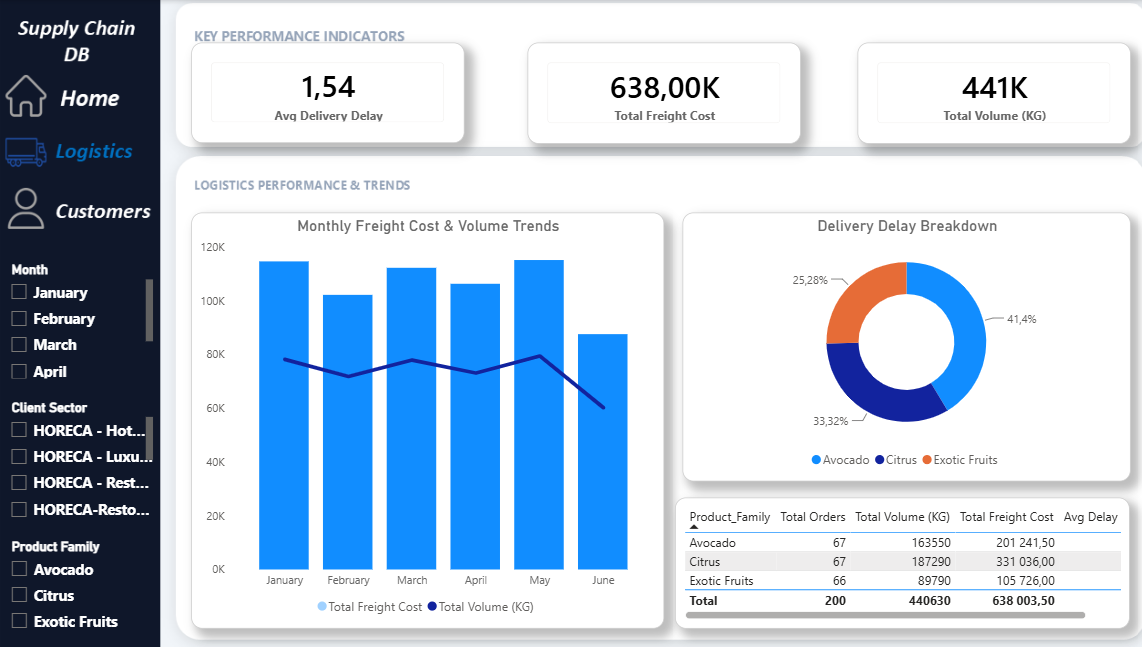

Layout of this report page (visuals, bound fields, positions):
{"tool":"powerbi","page":{"name":"Logistics","canvas":[1280,720],"ordinal":1},"visuals":[{"type":"actionButton","box":[0,204.3,173.1,57.4],"z":0},{"type":"actionButton","box":[0,83.6,173.1,52.5],"z":1000},{"type":"slicer","fields":{"Values":["Dim_Calendar.Nom Mois"]},"box":[0,283,173.1,138.1],"z":2000},{"type":"slicer","fields":{"Values":["Dim_Clients_Costs.Client_Name"]},"box":[0,433.8,173.1,140.1],"z":3000},{"type":"slicer","fields":{"Values":["Fact_Sales_Transactions.Product_Family"]},"box":[0,585.5,173.1,115.7],"z":4000},{"type":"cardVisual","fields":{"Data":["_Measures.Avg Delivery Delay"]},"box":[210.4,47,300.3,110.3],"z":5000},{"type":"cardVisual","fields":{"Data":["_Measures.Total Freight Cost"]},"box":[579.2,47,300.3,111.3],"z":6000},{"type":"cardVisual","fields":{"Data":["Sum(Fact_Sales_Transactions.Volume_KG)"]},"box":[940.8,47,300.3,111.3],"z":7000},{"type":"lineClusteredColumnComboChart","title":"Monthly Freight Cost & Volume Trends","fields":{"Y":["_Measures.Total Freight Cost"],"Y2":["Sum(Fact_Sales_Transactions.Volume_KG)"],"Category":["Dim_Calendar.Nom Mois"]},"box":[210.4,232.9,518.9,456.6],"z":8000},{"type":"donutChart","title":"Delivery Delay Breakdown","fields":{"Category":["Fact_Sales_Transactions.Product_Family"],"Y":["_Measures.Avg Delivery Delay"]},"box":[748.8,232.9,492.4,295.2],"z":9000},{"type":"tableEx","fields":{"Values":["Fact_Sales_Transactions.Product_Family","_Measures.Total Orders","Sum(Fact_Sales_Transactions.Volume_KG)","_Measures.Total Freight Cost","_Measures.Avg Delivery Delay"]},"box":[741.6,545.5,499.5,144],"z":10000}]}

Visuals, with their boxes on the page's 1280x720 design canvas (x1, y1, x2, y2). These are canvas units, not pixel positions in the 1142x647 screenshot, which may show the page scaled, cropped or inside an application window:
actionButton: <region>0, 204, 173, 262</region>
actionButton: <region>0, 84, 173, 136</region>
slicer - Dim_Calendar.Nom Mois: <region>0, 283, 173, 421</region>
slicer - Dim_Clients_Costs.Client_Name: <region>0, 434, 173, 574</region>
slicer - Fact_Sales_Transactions.Product_Family: <region>0, 586, 173, 701</region>
cardVisual - _Measures.Avg Delivery Delay: <region>210, 47, 511, 157</region>
cardVisual - _Measures.Total Freight Cost: <region>579, 47, 880, 158</region>
cardVisual - Sum(Fact_Sales_Transactions.Volume_KG): <region>941, 47, 1241, 158</region>
"Monthly Freight Cost & Volume Trends" lineClusteredColumnComboChart: <region>210, 233, 729, 690</region>
"Delivery Delay Breakdown" donutChart: <region>749, 233, 1241, 528</region>
tableEx - Fact_Sales_Transactions.Product_Family x _Measures.Total Orders: <region>742, 546, 1241, 690</region>
